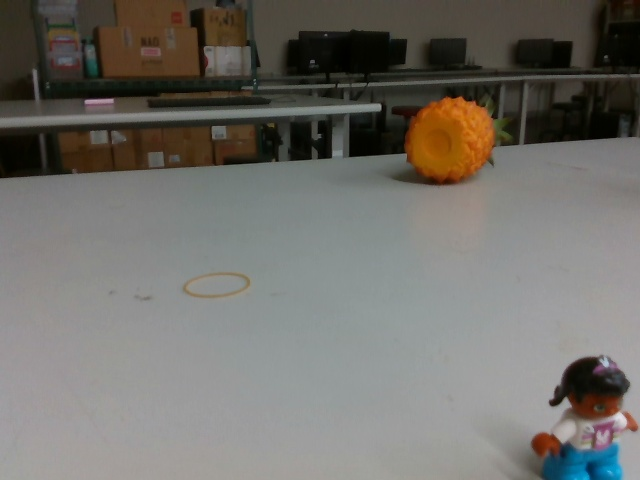people: (528, 353, 640, 480)
